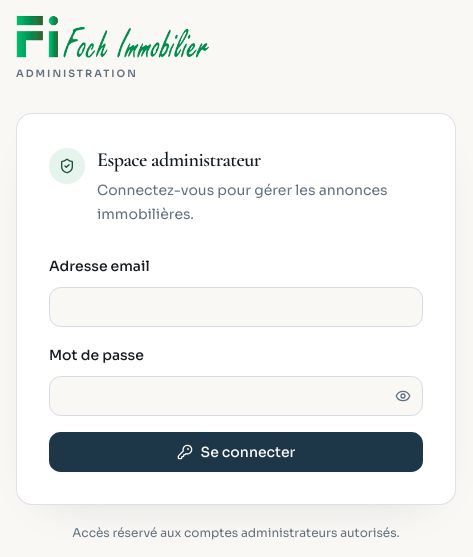
Test: admin login validation › ignores repeated submissions while sign-in is pending
Expected: the heading "Espace administrateur" is shown, top-left (97, 148), bottom-right (261, 172)
Type "admin@example.fr" into the field labelled "Adresse email".
click(236, 307); type("admin@example.fr")  # box top-left (49, 287), bottom-right (423, 327)
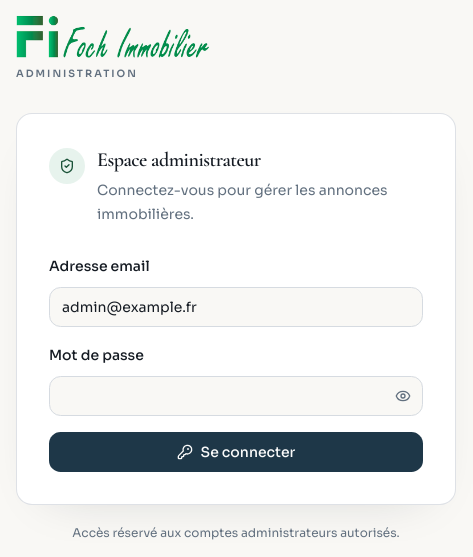
Type "correct horse battery staple" into the password field labelled "Mot de passe".
click(236, 396); type("correct horse battery staple")  # box top-left (49, 376), bottom-right (423, 416)
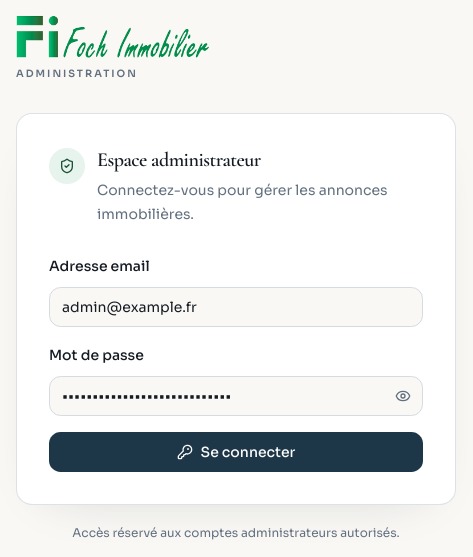
Submit the form "Se connecter", box top-left (49, 254), bottom-right (423, 472)
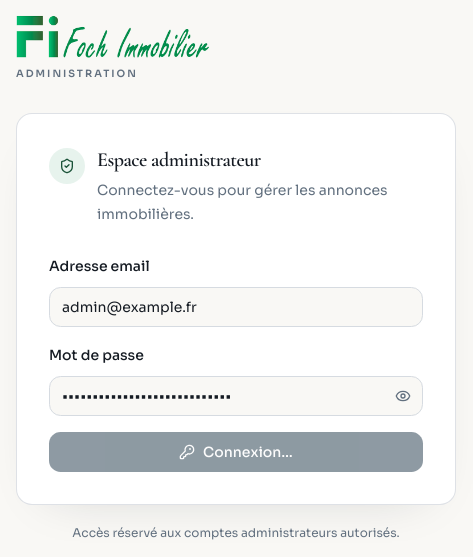
Expected: the button "Connexion…" is disabled, top-left (49, 432), bottom-right (423, 472)
Submit the form named "Se connecter", box top-left (49, 254), bottom-right (423, 472)
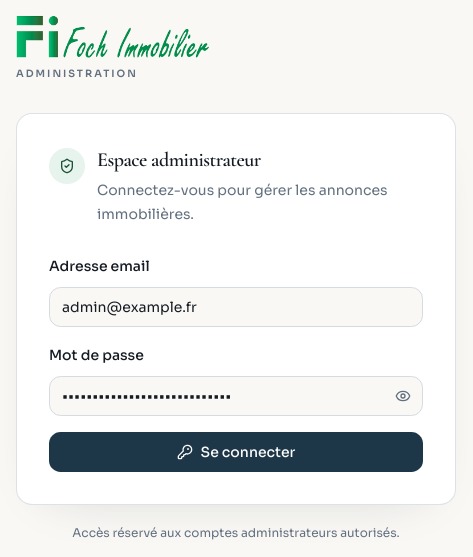
Expected: the button "Se connecter" is enabled, top-left (49, 432), bottom-right (423, 472)
